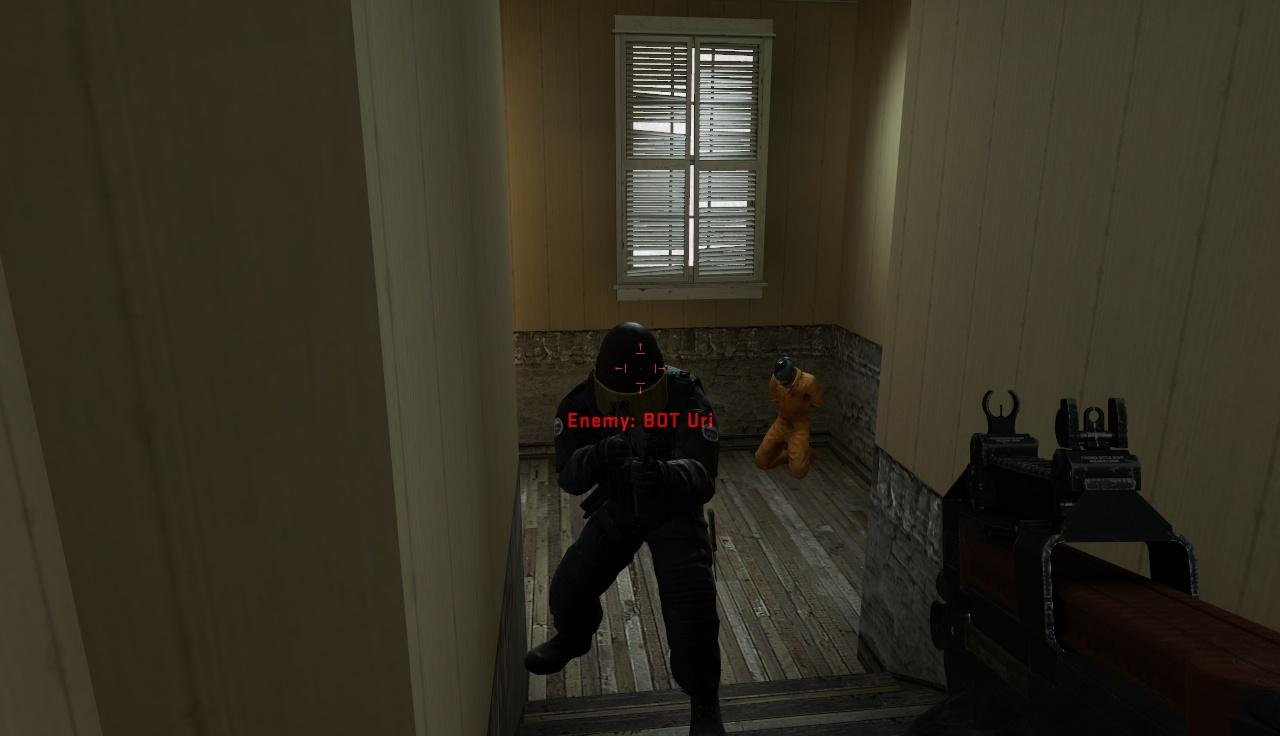ct: (561, 324, 717, 716)
cthead: (594, 325, 672, 406)
rifle: (945, 387, 1280, 736)
